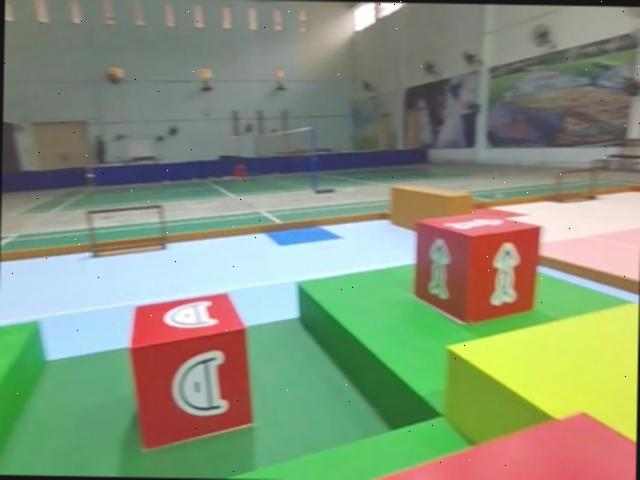R2 Real: (126, 287, 258, 452), (409, 207, 543, 327)
